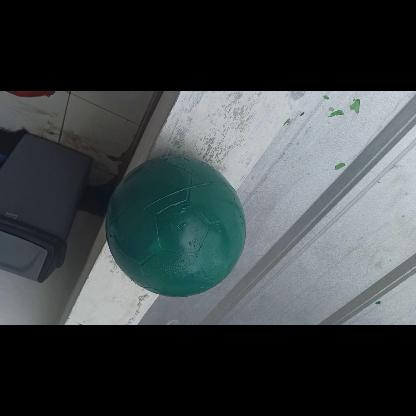green_ball: (105, 158, 244, 298)
